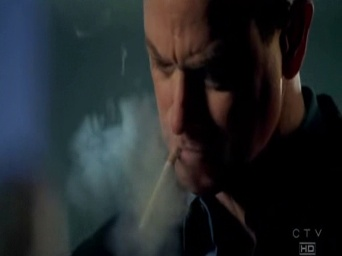smoke: (140, 143, 181, 230)
